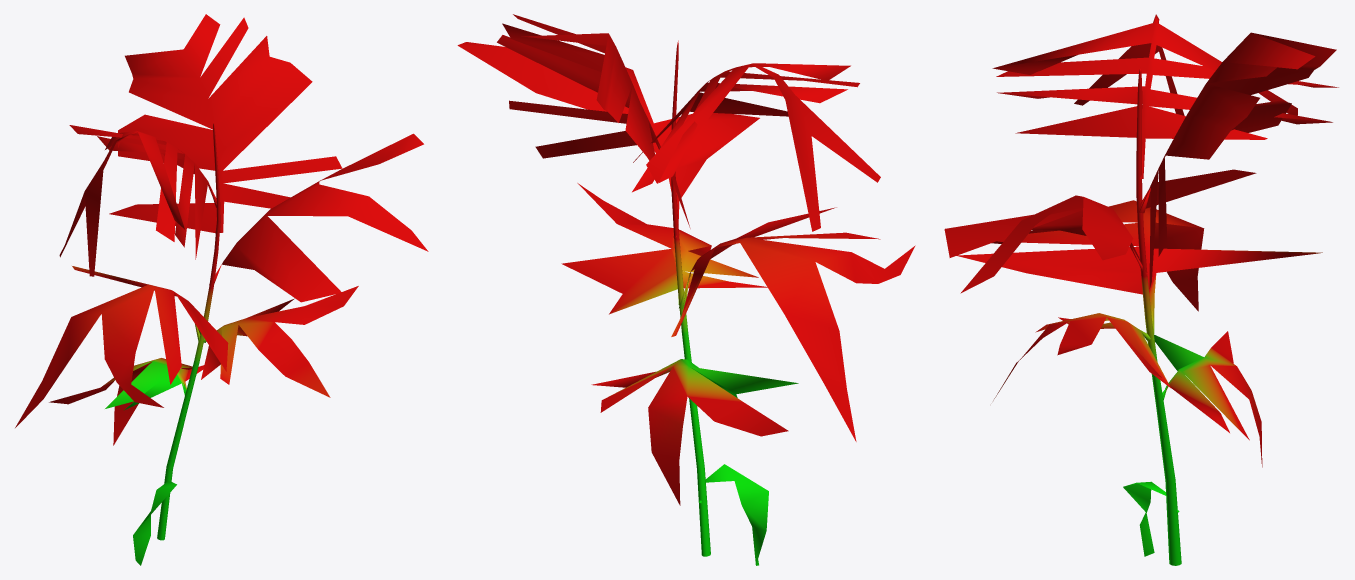
File: Cane Palm_LOD0_Var4_siBmK.fbx
3 views of the same model, side by side, from view 1: azimuth 30°, elevation 25°; view 2: azimuth 150°, elevation 25°; view 3: azimuth 270°, elevation 25° (orthographic). The views are drawn at different scales.
Parts seen in each view (by area): view 1: _77ed_Var4_LOD0; view 2: _77ed_Var4_LOD0; view 3: _77ed_Var4_LOD0.
Boxes of the visible parts, x1,y1,x2,y2 form: _77ed_Var4_LOD0: (15,14,428,565); _77ed_Var4_LOD0: (457,14,915,565); _77ed_Var4_LOD0: (944,14,1338,565).
Size of the model in its own units: 15.99 by 19.38 by 11.9.
